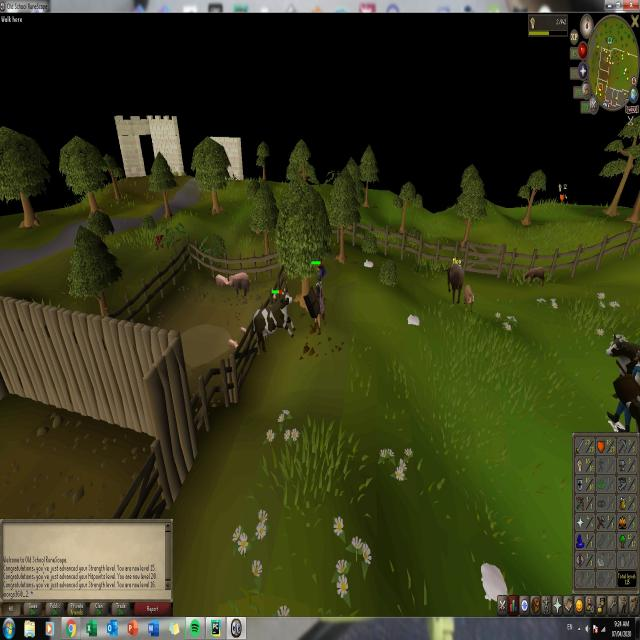cow: (252, 288, 294, 357), (605, 330, 638, 374), (444, 260, 464, 304)
